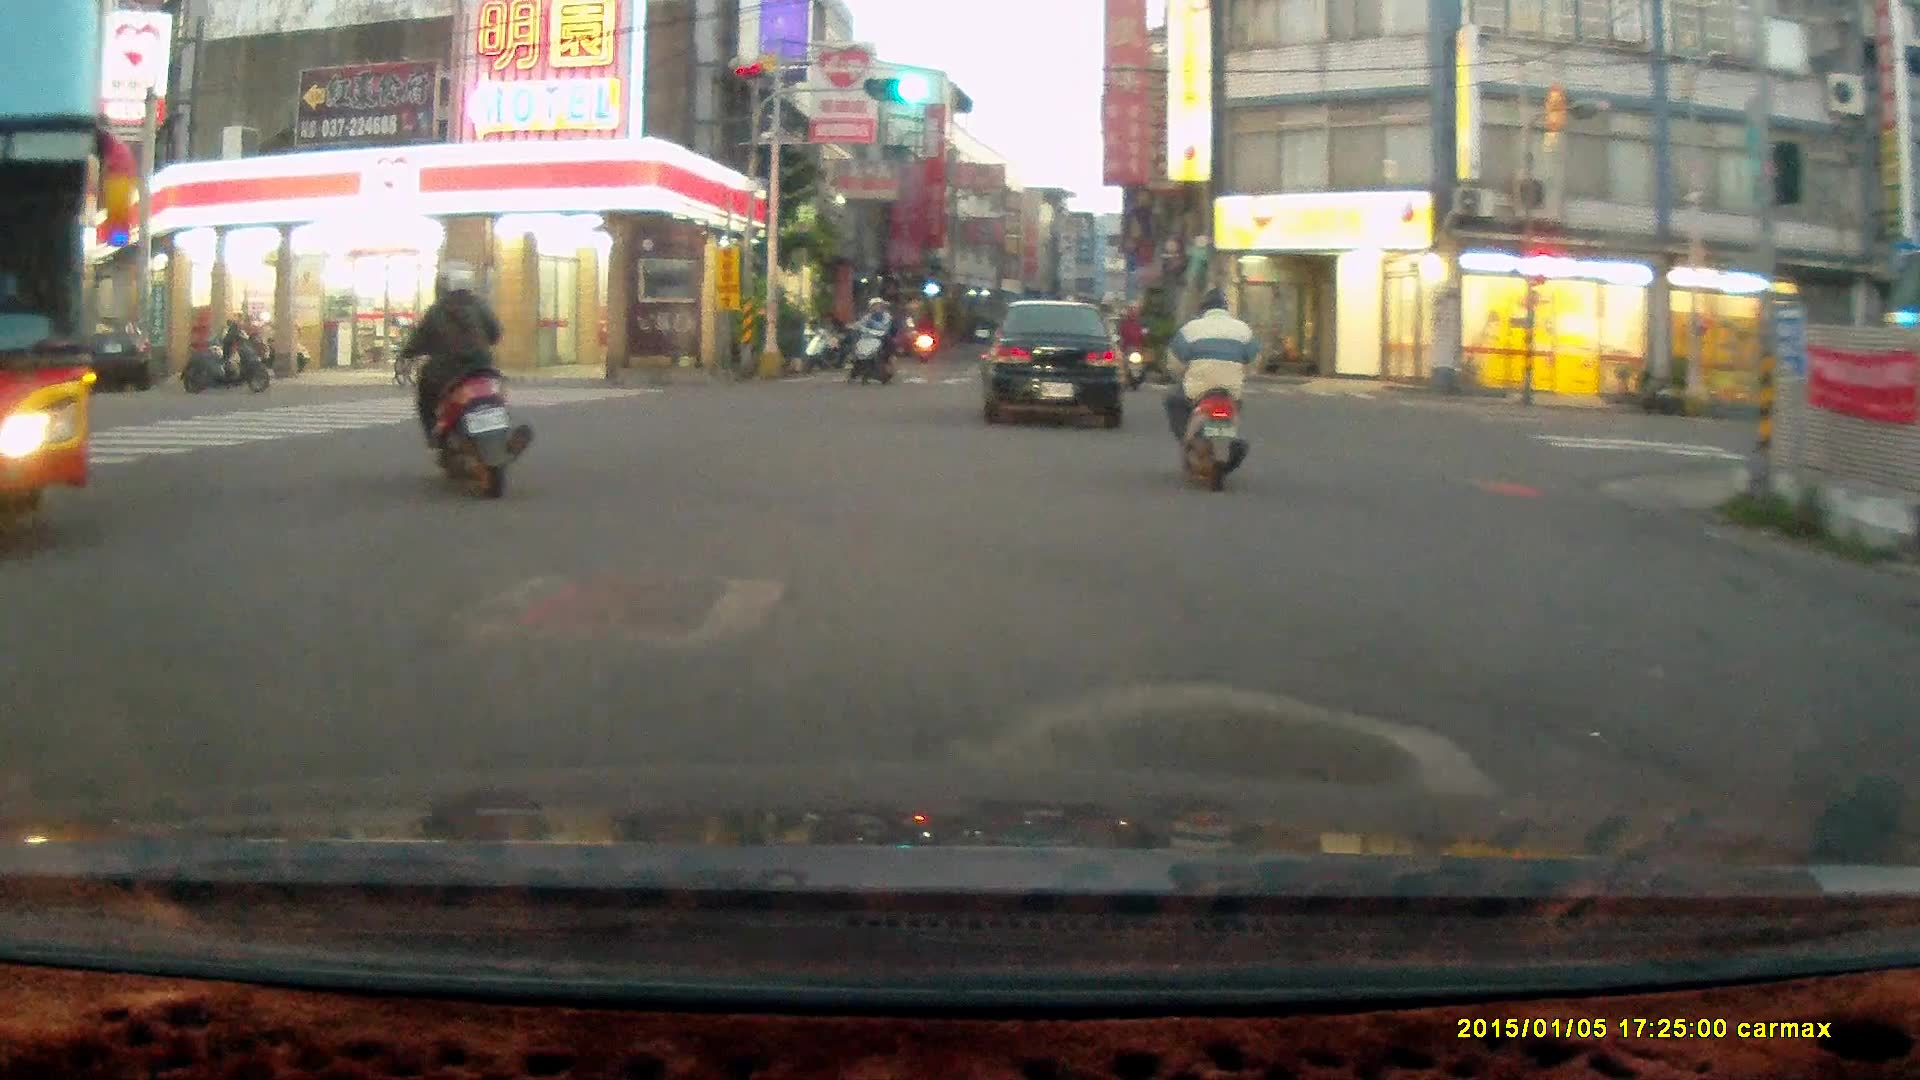rider: (388, 258, 532, 496), (1164, 284, 1254, 490), (845, 291, 902, 388), (1112, 298, 1150, 384)
vehicle: (1, 29, 105, 539), (982, 296, 1128, 429)
